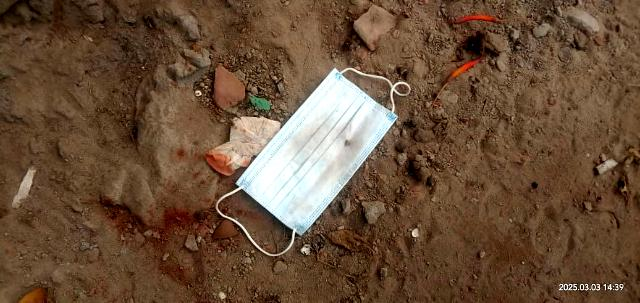mask: (230, 56, 404, 246)
